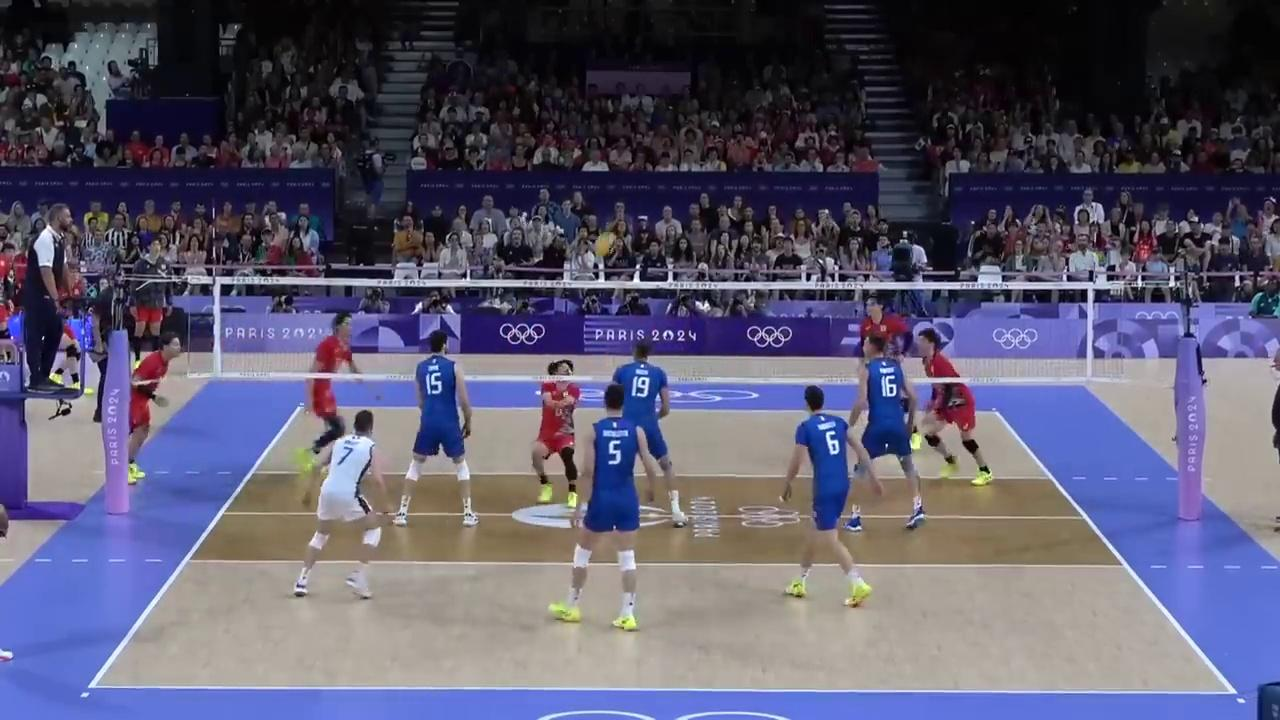ball: (593, 230, 617, 260)
